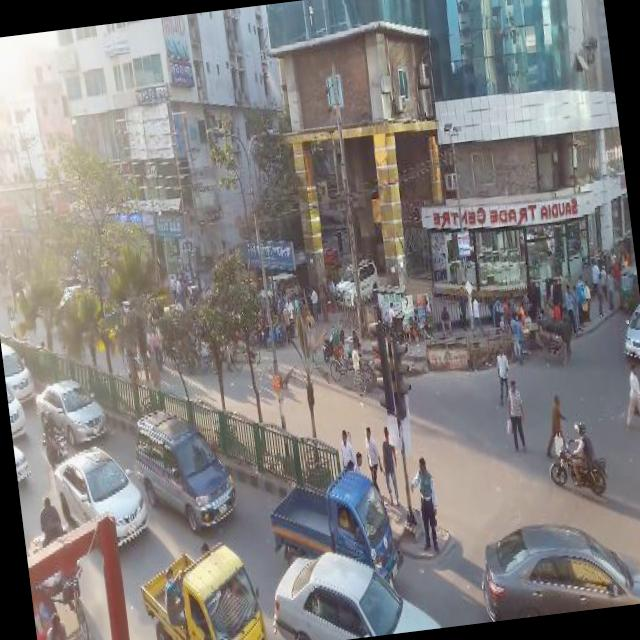car: (475, 507, 640, 618), (269, 537, 443, 640), (49, 433, 158, 560), (32, 370, 112, 449), (330, 248, 384, 308), (2, 334, 35, 400), (616, 297, 640, 365)
motorcycle: (23, 484, 95, 640), (544, 416, 612, 499), (320, 316, 374, 405), (34, 579, 80, 640), (616, 265, 640, 306), (263, 320, 288, 348), (321, 328, 336, 362)
truck: (264, 458, 406, 592), (127, 392, 245, 532), (132, 532, 270, 640), (258, 270, 304, 314)
